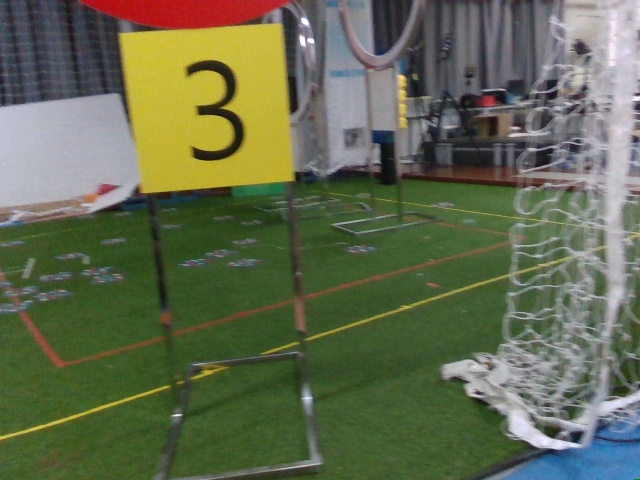target: (134, 35, 286, 186)
